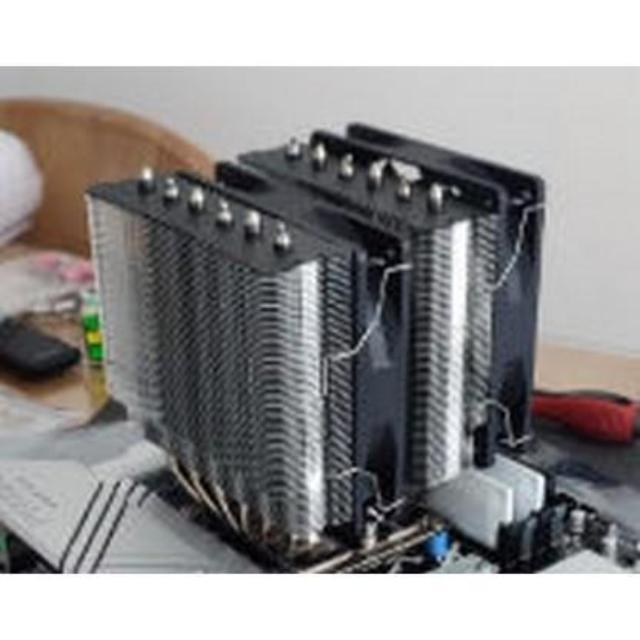CPU_Fan: (84, 107, 541, 539)
